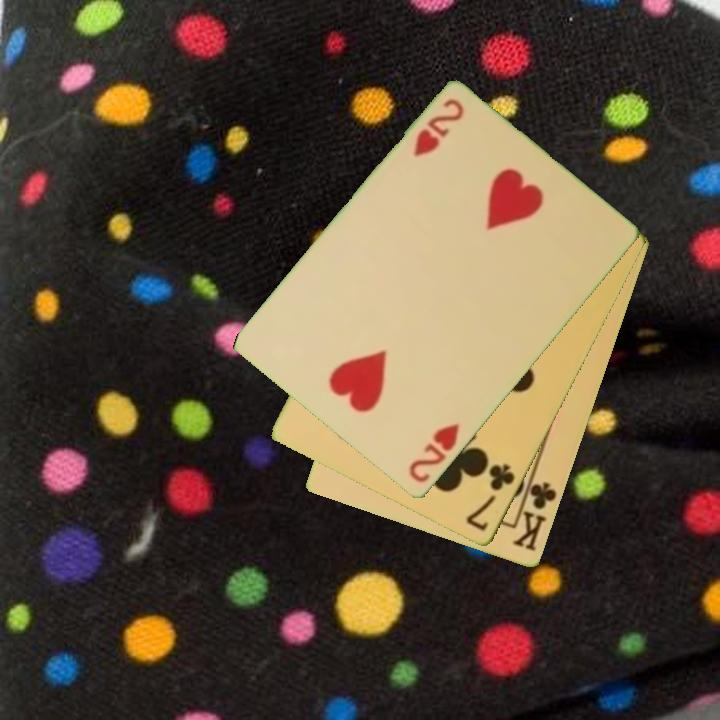2h: (405, 420, 462, 486), (410, 95, 467, 161)
7c: (462, 460, 518, 535)
Kc: (509, 471, 560, 555)
